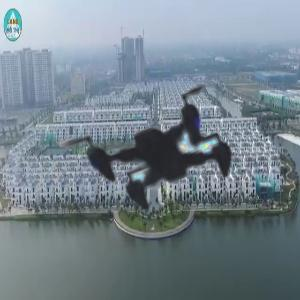drone: (26, 17, 300, 292)
